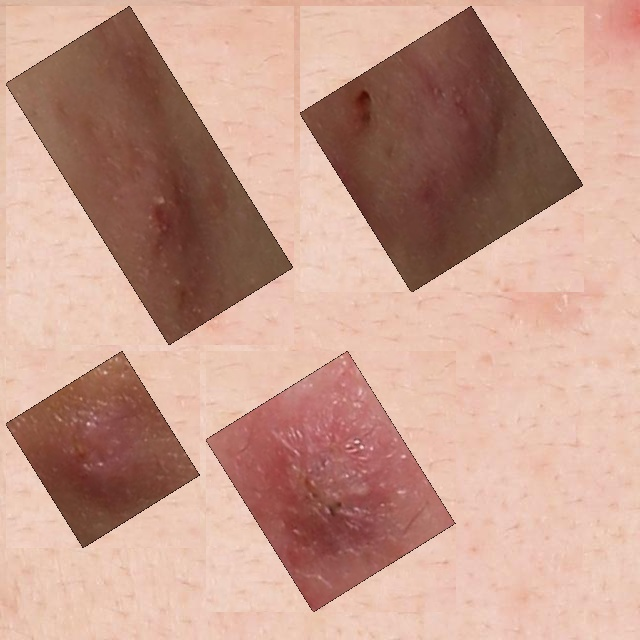nodule: (17, 17, 282, 334), (311, 17, 572, 281), (217, 362, 444, 601), (17, 362, 189, 536)
